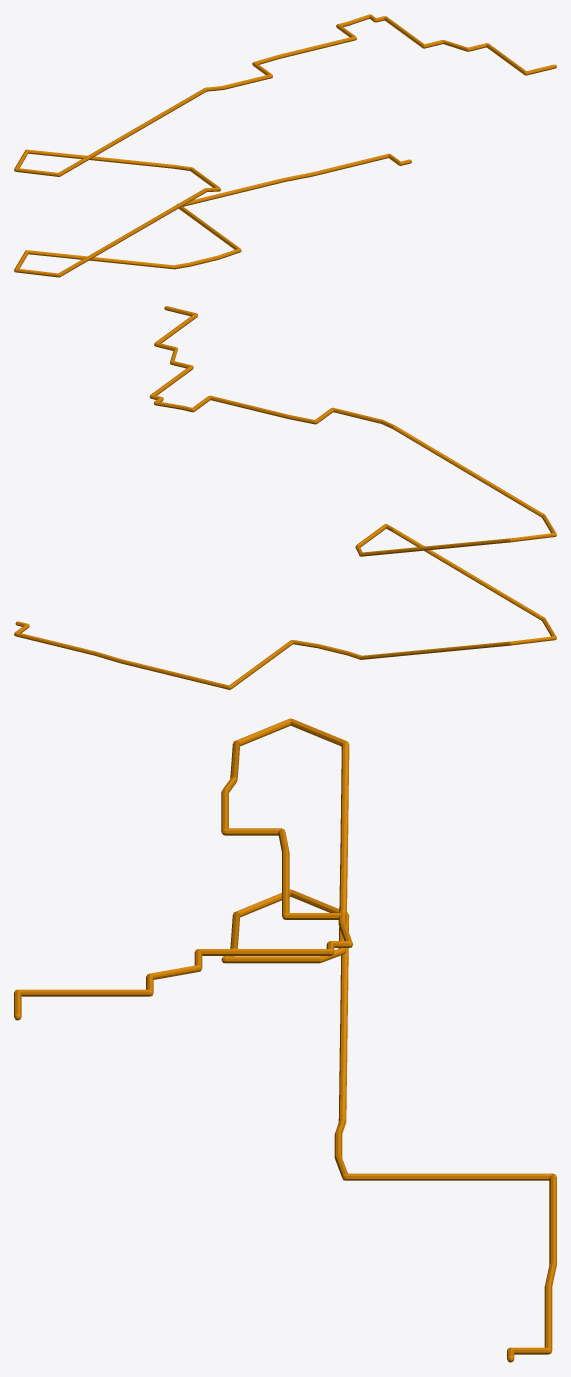
The picture shows the model from 3 angles, top to bottom: view 1: azimuth 30°, elevation 25°; view 2: azimuth 150°, elevation 25°; view 3: azimuth 270°, elevation 25°; orthographic projection. The views are drawn at different scales.
Size of the model in its own units: 2406 by 1020 by 1439.
